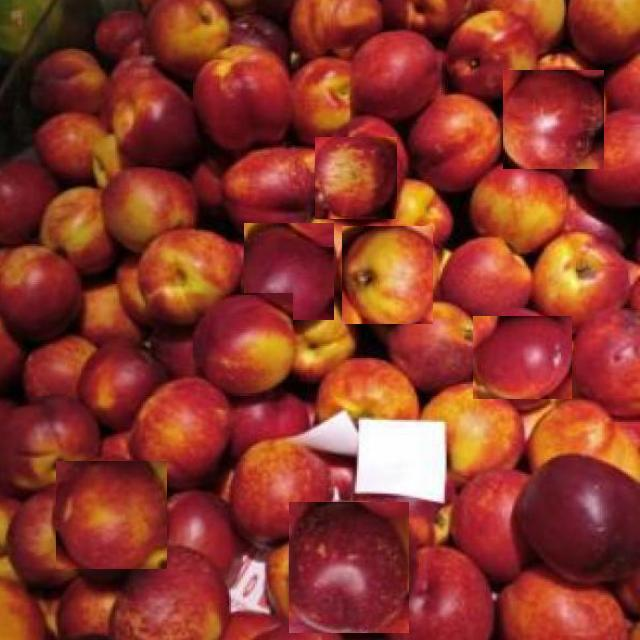Nectarine: (289, 501, 409, 633), (55, 460, 167, 569), (193, 46, 295, 154), (502, 69, 604, 169), (195, 294, 293, 395), (342, 227, 433, 324), (244, 222, 334, 320), (467, 162, 564, 250), (351, 32, 444, 122), (472, 316, 572, 399), (0, 244, 81, 340), (102, 168, 195, 245), (315, 136, 397, 219)
